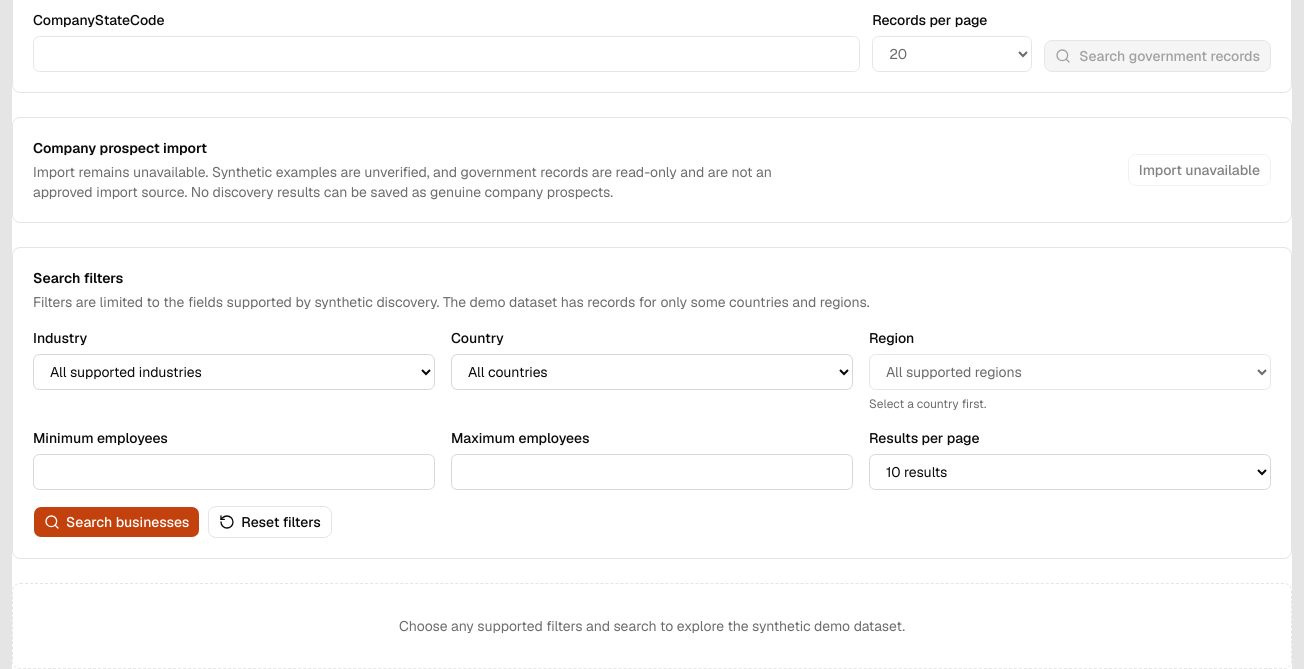
Discovery Workspace › submits normalized supported filters through the discovery API
(page scrolled)
Step 1. Select "Software" in the dropdown labelled "Industry" → (234, 372), box [33,354,435,390]
Step 2. Select "United States" in the dropdown labelled "Country" → (652, 372), box [451,354,853,390]
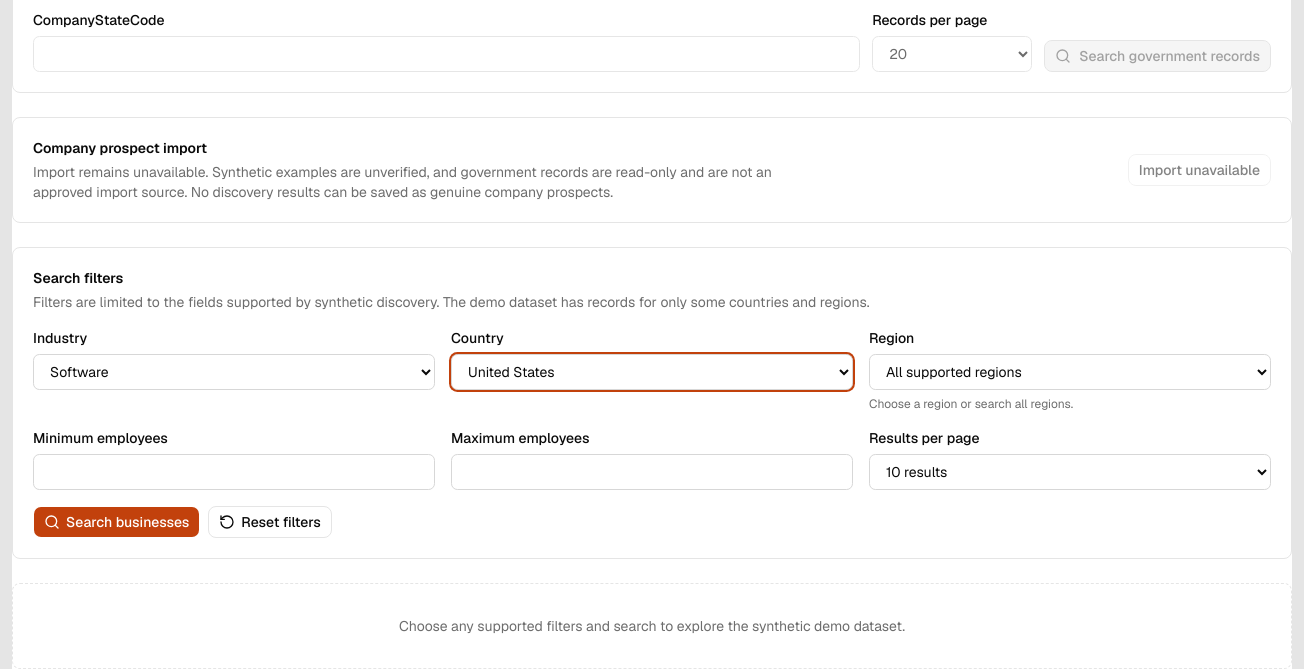
Step 3. Select "New York" in the dropdown labelled "Region Choose a region or search all regions." → (1070, 372), box [869,354,1271,390]
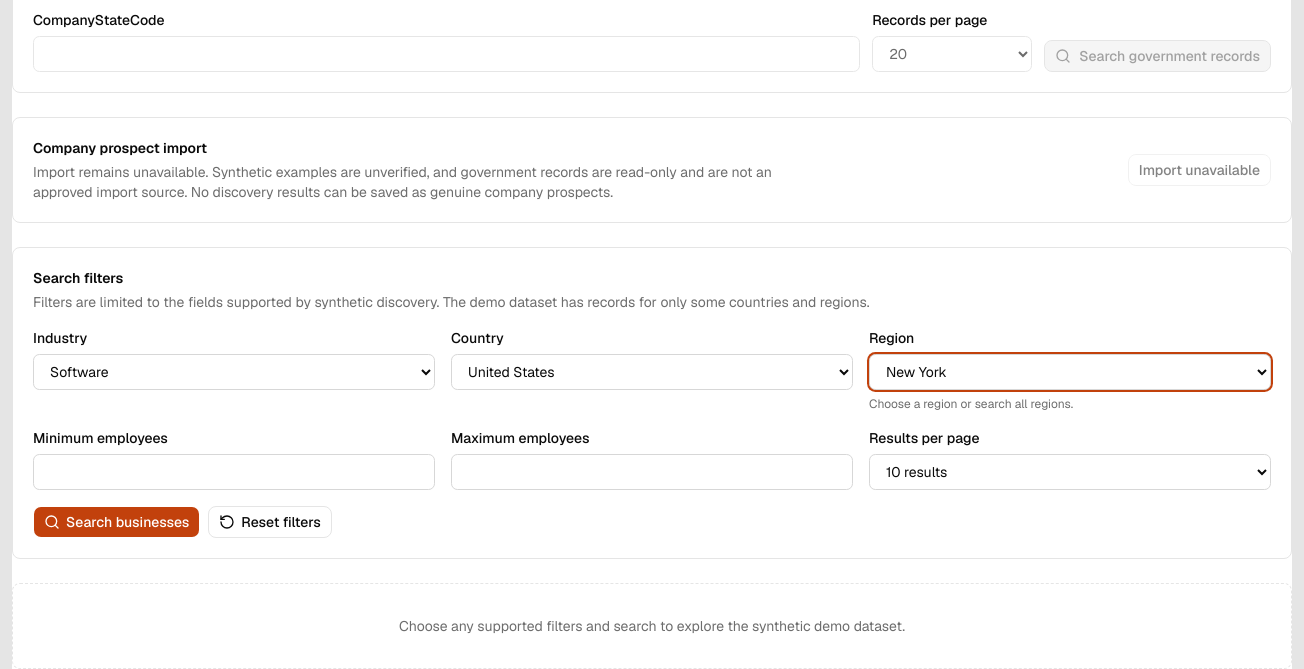
Step 4. Type "10" into the number field labelled "Minimum employees" → (234, 472), box [33,454,435,490]
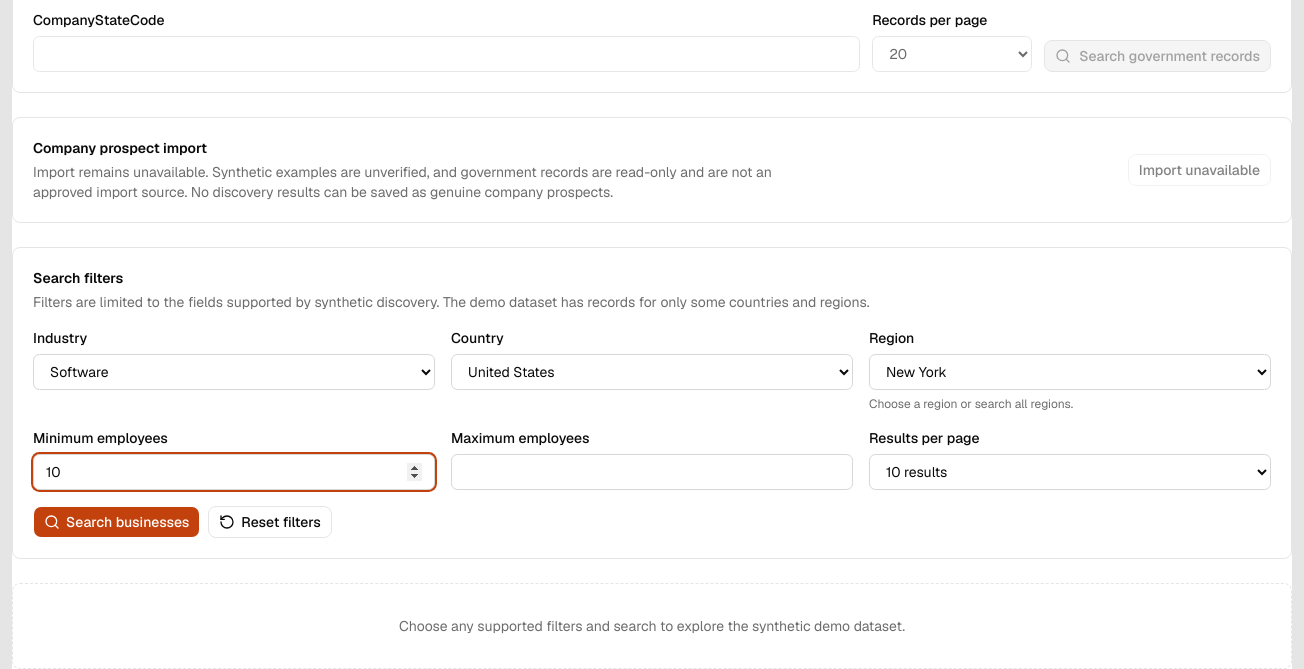
Step 5. Type "250" into the number field labelled "Maximum employees" → (652, 472), box [451,454,853,490]
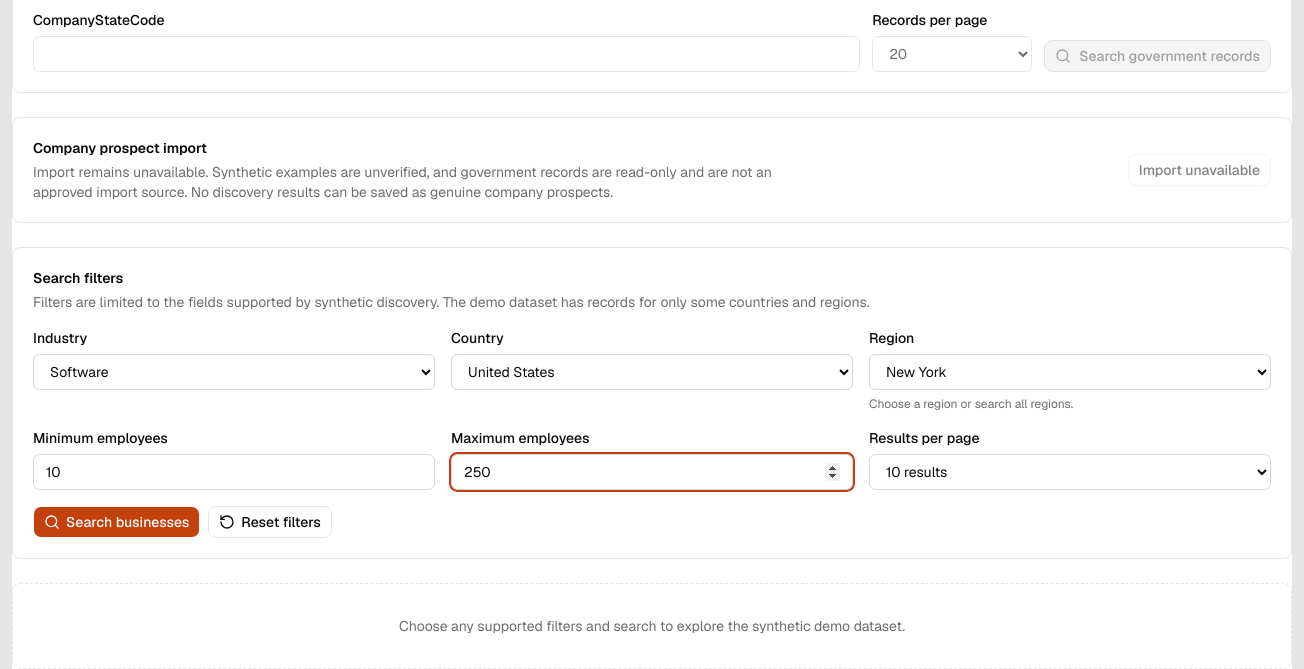
Step 6. Select "5 results" in the dropdown labelled "Results per page" → (1070, 472), box [869,454,1271,490]
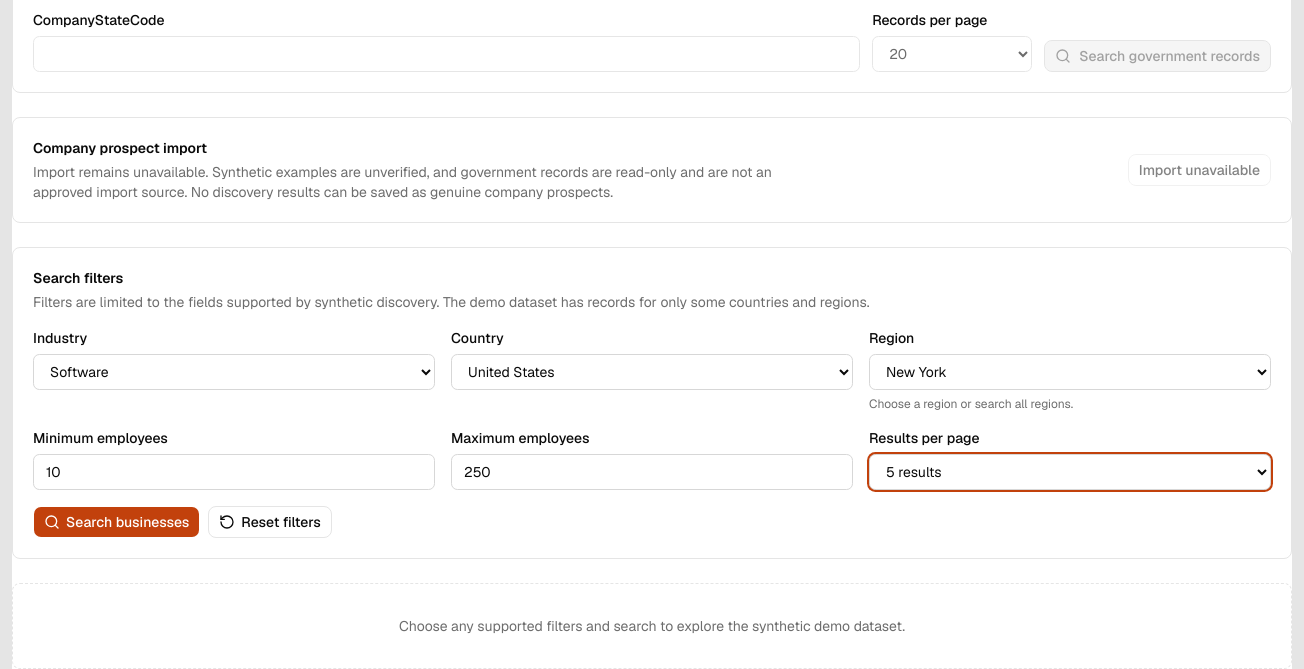
Step 7. Click the button "Search businesses" → click(117, 522), box [33,506,200,538]
(page scrolled)
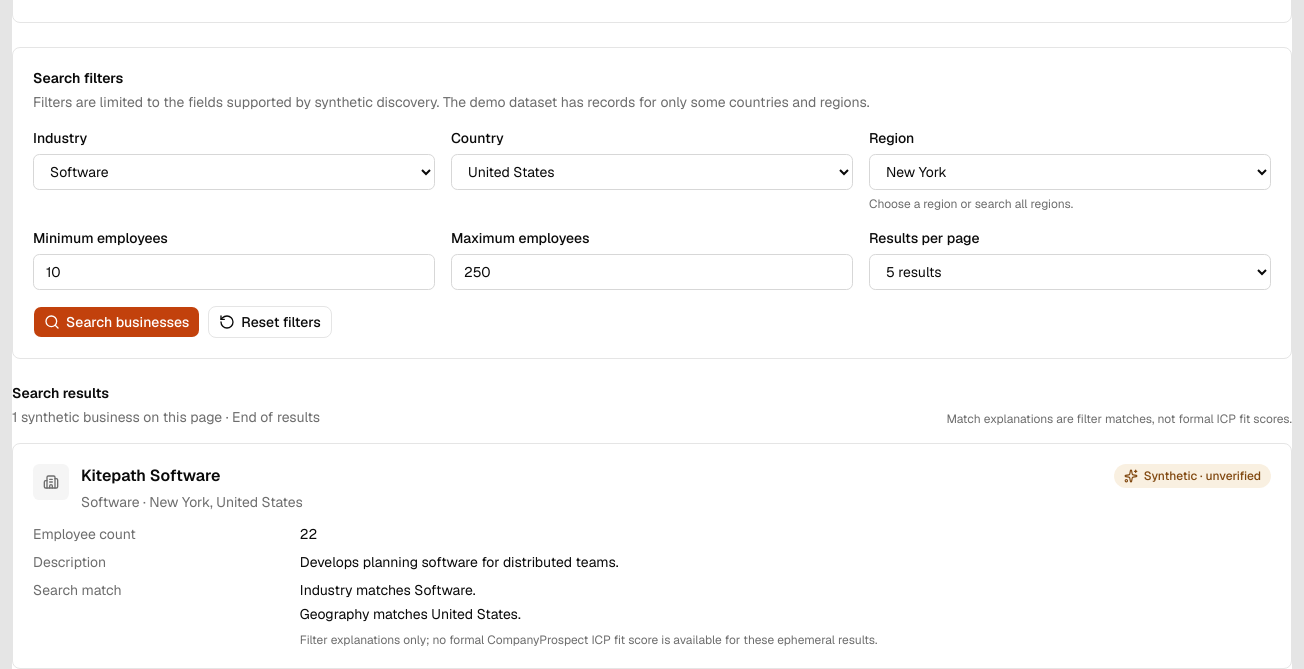
Expected: the heading "Kitepath Software" is shown, [81,465,220,486]
